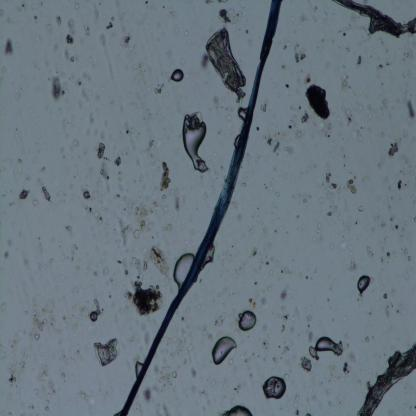Air bubble: (210, 335, 238, 367), (260, 375, 287, 399), (314, 336, 344, 357), (218, 401, 254, 415), (238, 309, 258, 332), (355, 275, 372, 294), (169, 68, 185, 84), (237, 107, 248, 122), (134, 361, 143, 377)
Background material: (177, 108, 212, 174), (120, 198, 161, 240), (124, 281, 164, 314), (304, 81, 332, 121), (147, 238, 172, 279), (6, 348, 30, 387), (65, 298, 91, 332), (91, 339, 121, 367), (28, 307, 49, 346), (119, 255, 147, 282), (166, 334, 196, 358), (322, 168, 346, 196), (82, 204, 107, 230), (290, 39, 310, 66), (153, 370, 176, 392), (58, 344, 83, 364), (157, 162, 174, 191), (49, 73, 67, 100), (220, 6, 244, 26), (35, 363, 50, 394), (65, 17, 79, 47), (88, 300, 105, 321), (140, 323, 152, 350), (404, 97, 416, 122), (132, 58, 147, 78), (326, 363, 340, 384), (346, 176, 359, 198), (59, 48, 77, 63), (47, 317, 62, 335), (267, 136, 282, 154), (144, 139, 156, 161), (342, 105, 354, 127), (95, 140, 107, 161), (294, 192, 314, 204), (40, 186, 53, 204), (215, 312, 229, 328), (339, 73, 350, 93), (300, 355, 312, 373), (98, 164, 110, 182), (402, 46, 414, 63), (278, 264, 292, 278), (292, 392, 300, 416), (4, 39, 14, 58), (288, 113, 298, 132), (44, 392, 54, 411), (386, 142, 400, 155), (76, 389, 88, 404), (374, 213, 386, 228), (70, 242, 79, 262), (322, 121, 332, 138), (282, 144, 296, 156), (142, 387, 154, 401), (17, 188, 31, 200), (259, 255, 274, 266), (326, 204, 339, 216), (380, 248, 391, 262), (300, 110, 311, 124), (80, 186, 91, 200), (200, 53, 209, 69), (119, 34, 131, 46), (260, 96, 268, 114), (347, 350, 357, 364), (123, 126, 137, 136), (395, 302, 406, 314), (174, 194, 181, 212), (126, 335, 140, 344), (233, 380, 242, 394), (384, 303, 393, 317), (18, 1, 28, 13), (154, 82, 164, 94), (162, 223, 174, 233), (105, 21, 117, 31), (248, 298, 258, 310), (366, 246, 376, 258), (83, 23, 92, 36), (318, 224, 324, 243), (92, 8, 100, 22), (190, 364, 198, 378), (350, 258, 358, 272), (381, 98, 389, 112), (258, 339, 269, 349), (76, 77, 85, 89), (344, 221, 352, 234), (238, 261, 248, 271), (309, 3, 318, 14), (396, 178, 403, 192), (343, 362, 350, 376), (114, 156, 122, 168), (99, 34, 107, 46), (65, 223, 73, 235), (88, 112, 96, 124), (307, 329, 313, 344), (295, 130, 304, 140), (281, 289, 289, 300), (304, 73, 311, 85), (356, 56, 363, 68), (60, 368, 66, 382), (280, 313, 289, 322), (250, 247, 258, 257), (32, 387, 40, 397), (378, 34, 384, 46), (260, 297, 266, 309), (289, 105, 301, 111), (295, 68, 303, 76), (4, 250, 10, 260), (25, 172, 32, 180), (398, 169, 406, 176), (379, 129, 386, 137), (32, 198, 39, 206), (265, 284, 272, 292), (401, 248, 408, 256), (284, 344, 290, 353), (72, 139, 78, 148), (58, 15, 62, 27), (14, 91, 20, 99), (390, 214, 396, 222), (242, 179, 247, 188), (281, 324, 285, 335), (110, 16, 117, 22), (382, 293, 388, 300), (364, 336, 370, 343), (116, 192, 121, 200), (275, 191, 280, 199), (358, 205, 364, 211), (201, 390, 207, 396), (376, 64, 382, 70), (33, 14, 39, 20), (306, 316, 312, 322), (407, 255, 412, 262), (182, 314, 186, 322), (395, 224, 399, 232), (186, 305, 190, 313), (281, 64, 286, 70), (271, 356, 276, 362), (386, 61, 392, 66), (40, 167, 46, 172), (305, 275, 309, 281), (306, 412, 312, 416), (285, 83, 289, 89), (256, 126, 260, 131), (346, 47, 350, 52), (328, 401, 332, 406), (254, 281, 258, 285), (413, 217, 416, 222), (221, 259, 224, 264), (218, 293, 221, 297), (296, 215, 299, 219), (308, 324, 310, 329)
Cellulose filter fibre: (357, 346, 416, 416), (334, 0, 416, 37), (206, 27, 244, 98), (171, 254, 195, 288)
Cotton: (117, 0, 284, 415)
